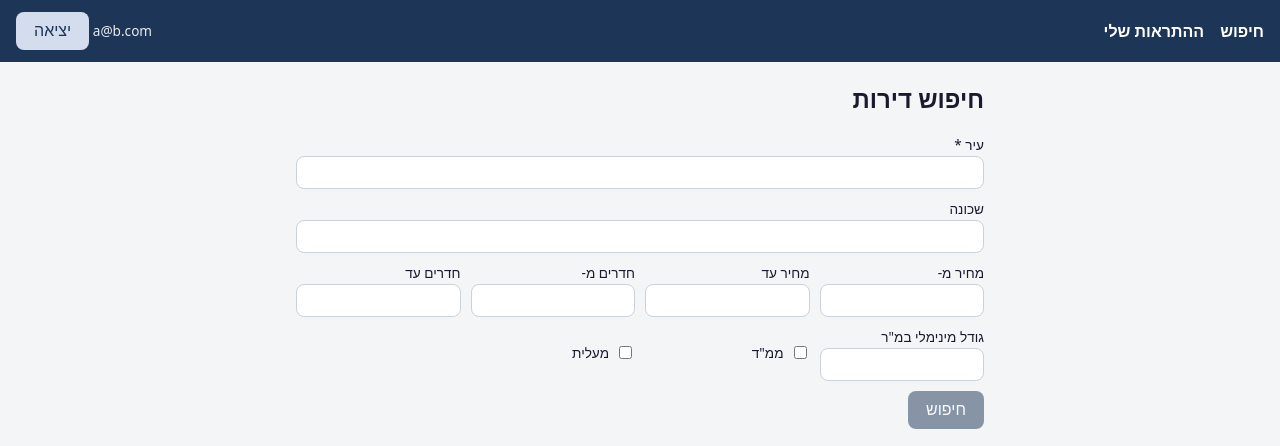
Test: signed in shows email, logout works
The image size is (1280, 446).
Check: the text "a@b.com" is shown, box [93, 21, 152, 40]
Click the button "יציאה" at (53, 31), box [16, 12, 89, 50]
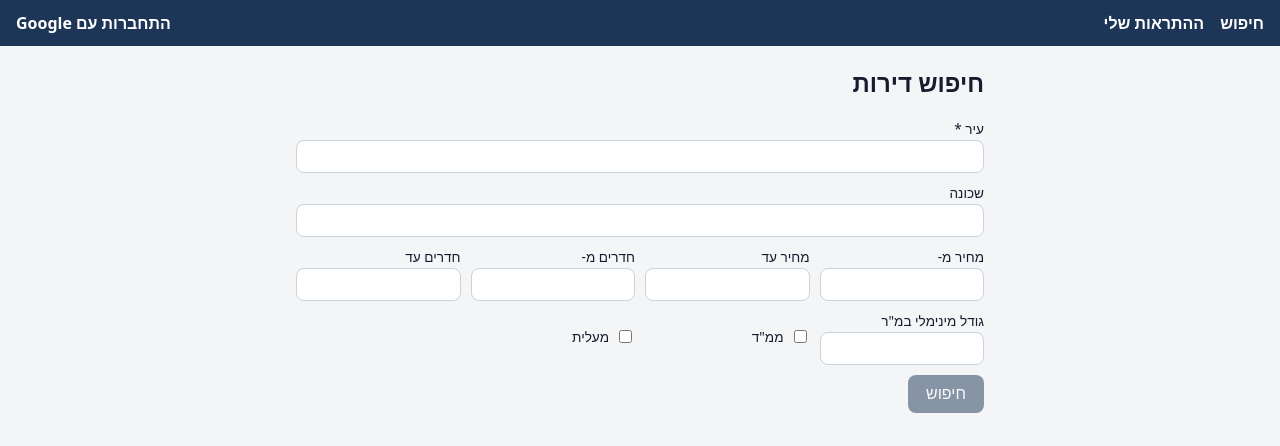
Check: the link "התחברות עם Google" is shown, box [16, 12, 171, 34]
